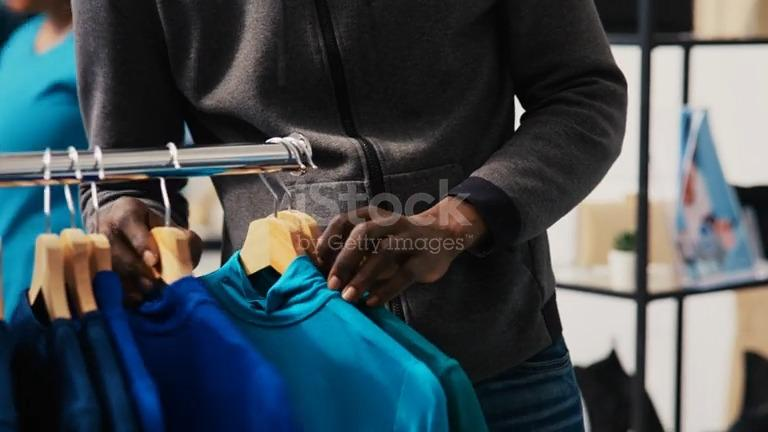Non shoplifting: (60, 0, 643, 432)
